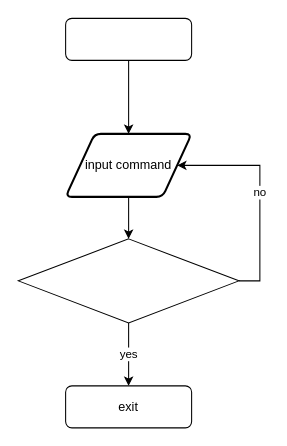
This 287x446 diagram has some shape labels left out. Each missing label, with the centre of its shape:
input command == "quit": [128,280]
trace 01: [128,38]
